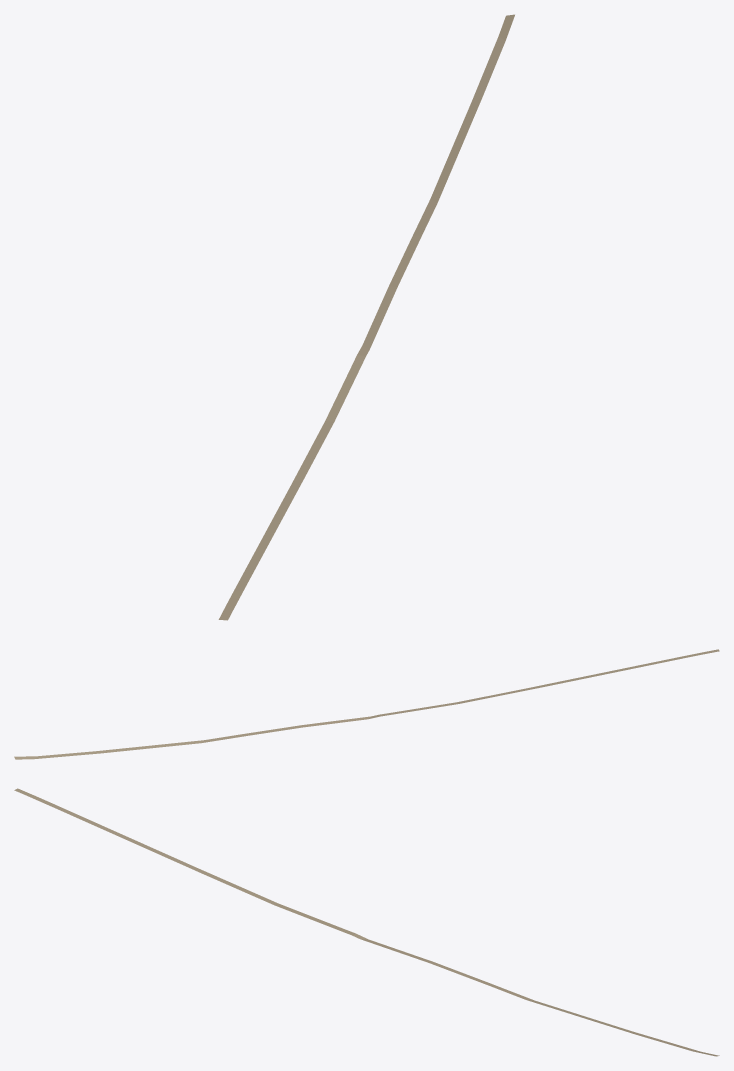
File: farm_-22_-25_track.glb
3 renders of one model, top to bottom at view 1: azimuth 30°, elevation 25°; view 2: azimuth 150°, elevation 25°; view 3: azimuth 270°, elevation 25°, orthographic. The views are drawn at different scales.
Visible parts, largest first — view 1: geometry_0; view 2: geometry_0; view 3: geometry_0.
Part boxes in pixels (x1,y1,x2,y2): geometry_0: (218,14,514,620); geometry_0: (14,649,719,759); geometry_0: (14,788,719,1056).
Bounding box in the file's own units: 340 × 13.13 × 389.
